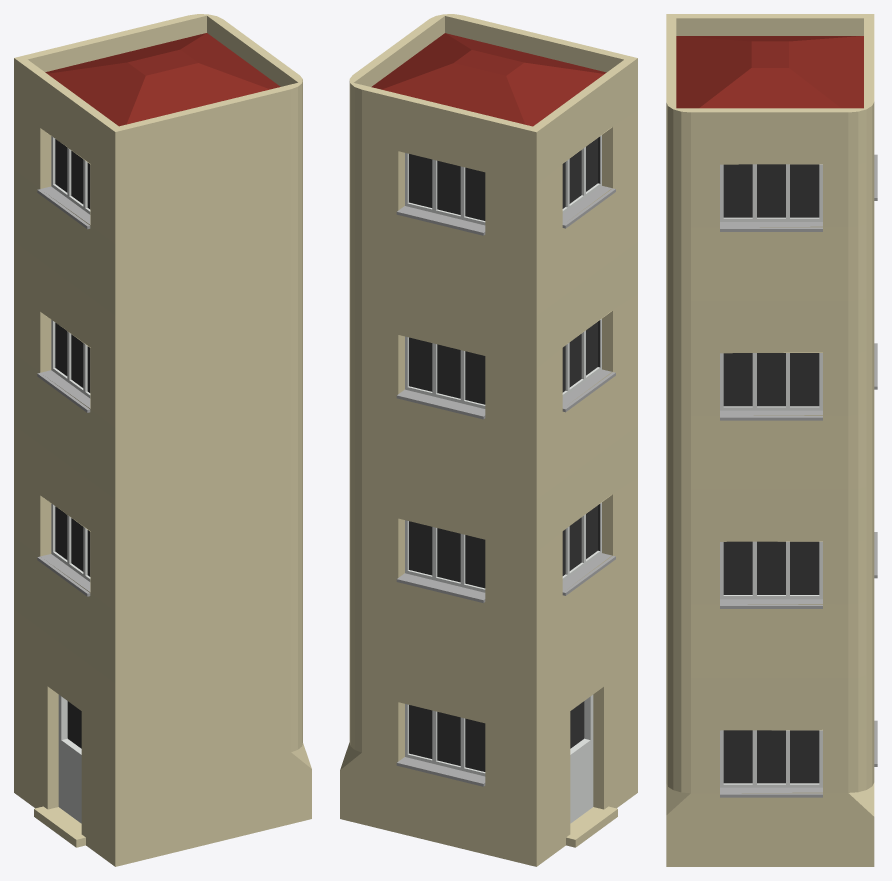
Rendered from nadog_4.gltf.
3 views of the same model, side by side, from view 1: azimuth 30°, elevation 25°; view 2: azimuth 150°, elevation 25°; view 3: azimuth 270°, elevation 25° (orthographic). The views are drawn at different scales.
Visible parts, largest first — view 1: nadog_3; view 2: nadog_3; view 3: nadog_3.
Part boxes in pixels (box(x1,y1,x2,y2)): nadog_3: box(14, 14, 311, 866); nadog_3: box(340, 14, 637, 866); nadog_3: box(666, 14, 877, 866).
Size of the model in its own units: 3.83 by 13 by 3.27.
